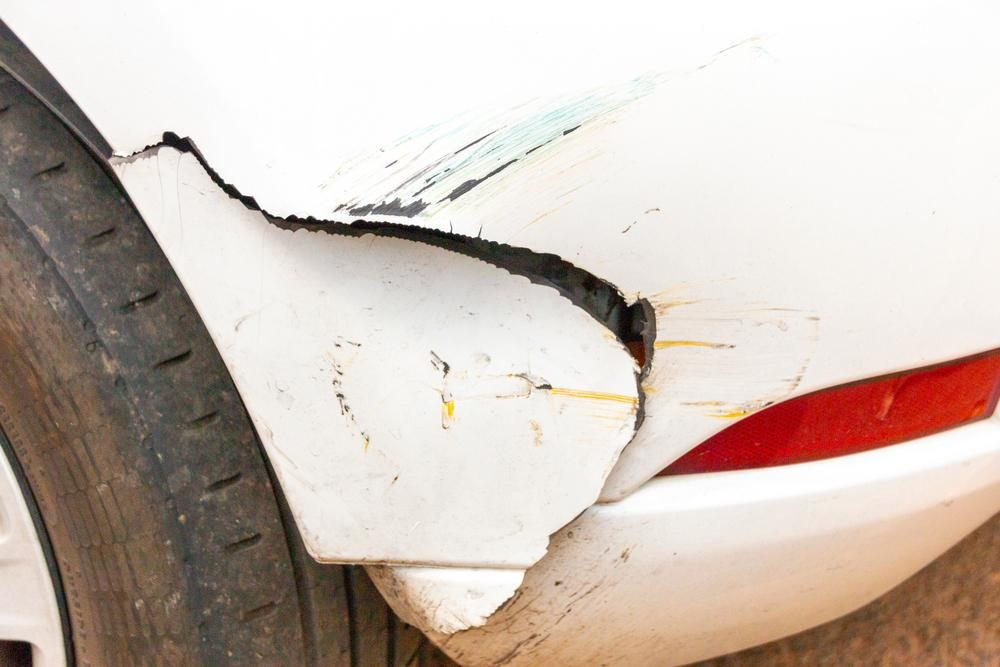crack: (113, 129, 656, 646)
scratch: (327, 38, 763, 217), (333, 335, 636, 461), (649, 279, 842, 419)
